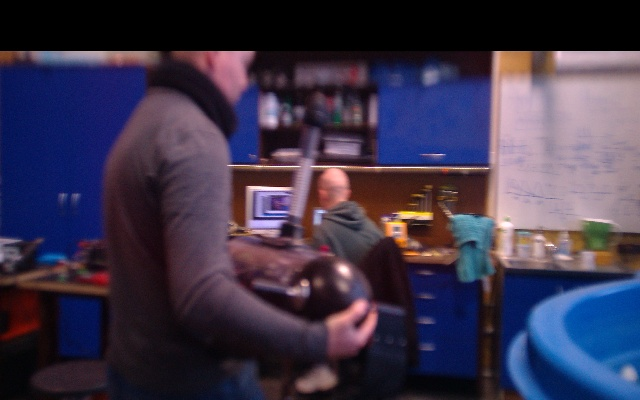black: (285, 151, 318, 229)
